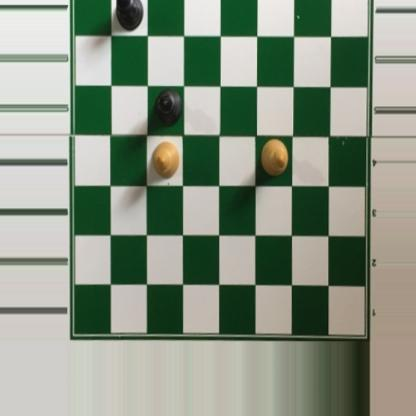black-bishop: (152, 86, 184, 129), (114, 0, 143, 33)
white-bishop: (258, 137, 291, 177), (151, 141, 180, 180)
